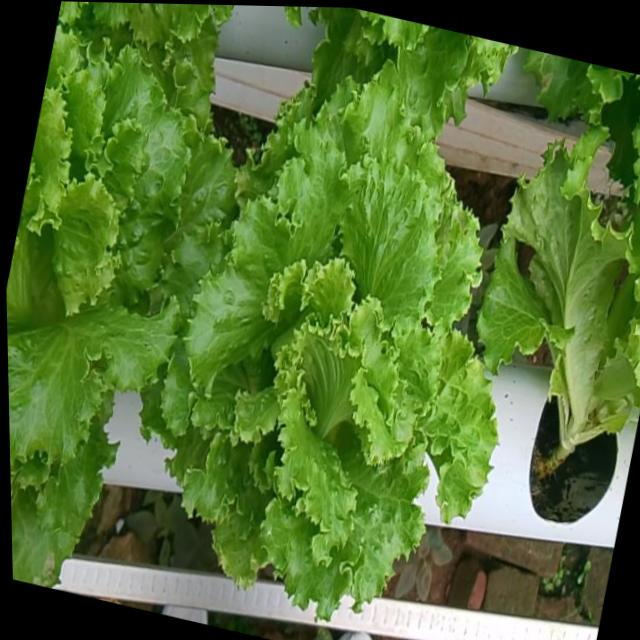Mature: (151, 89, 489, 629), (6, 57, 228, 485)
